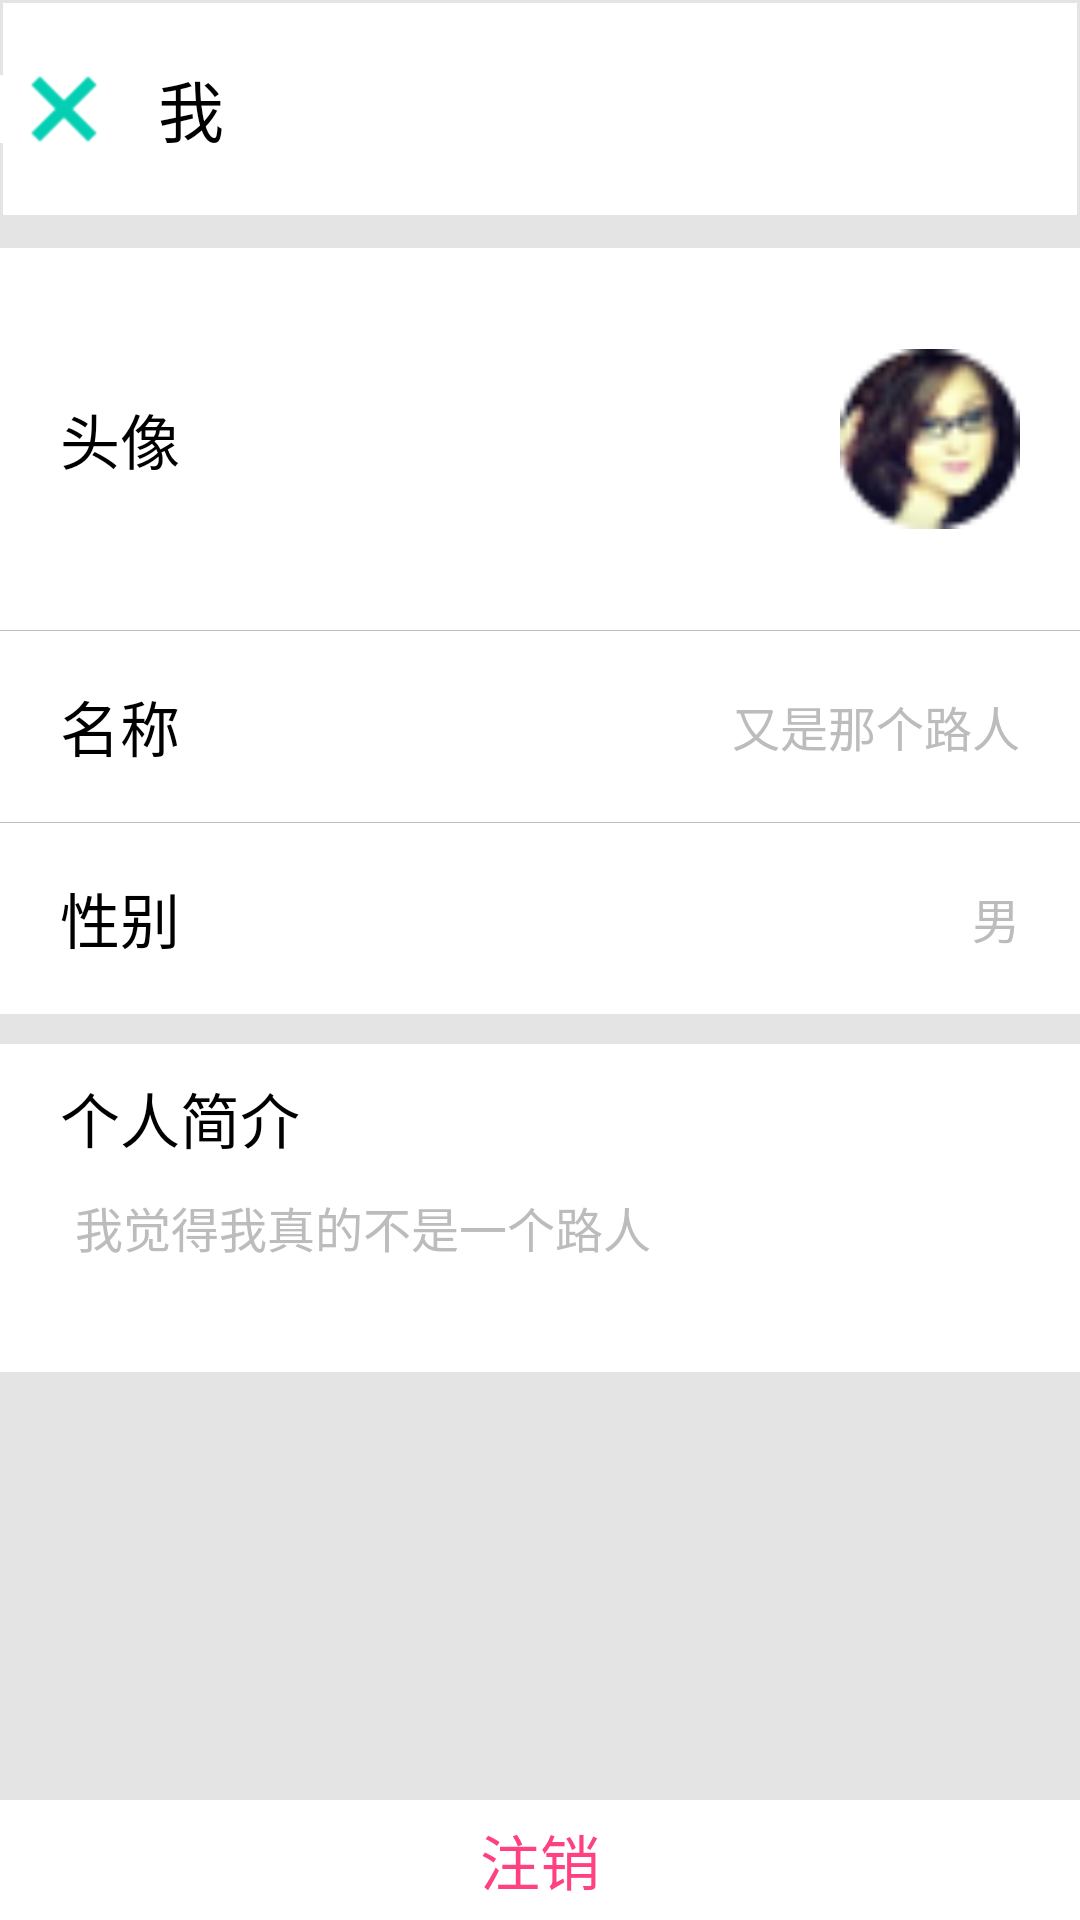

Locate icon controls on the screen. Image size 1080w x 1920h, boxes as box(x1, y1, x2, y2).
cyan back: box(31, 76, 97, 142)
